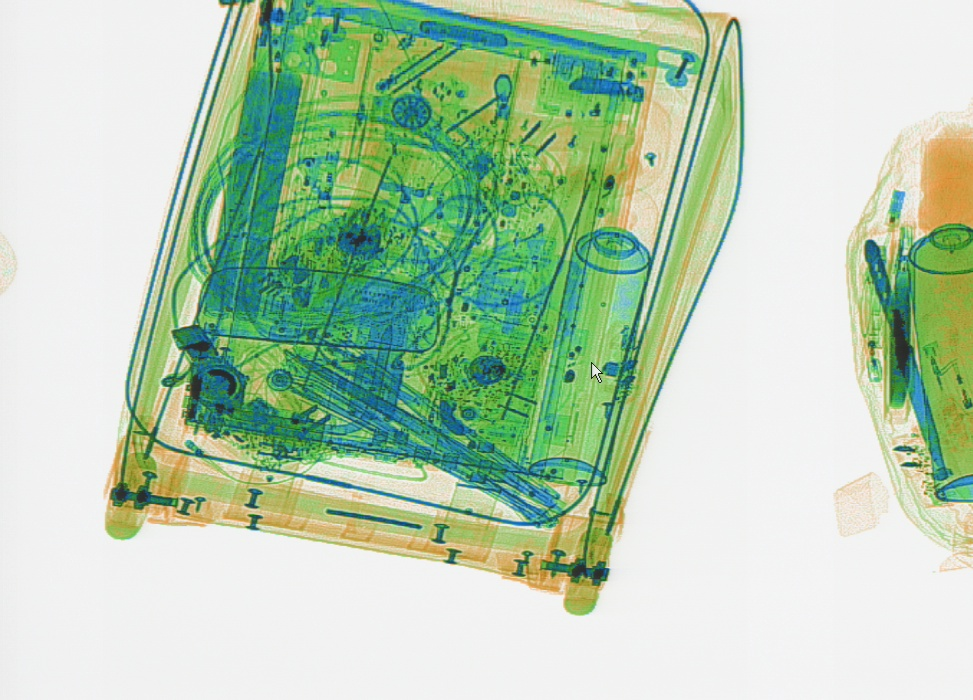knife: (861, 235, 944, 478)
lighter: (918, 324, 957, 456), (851, 252, 887, 383), (936, 354, 970, 423)
pressure: (520, 179, 660, 485), (908, 214, 969, 504)
